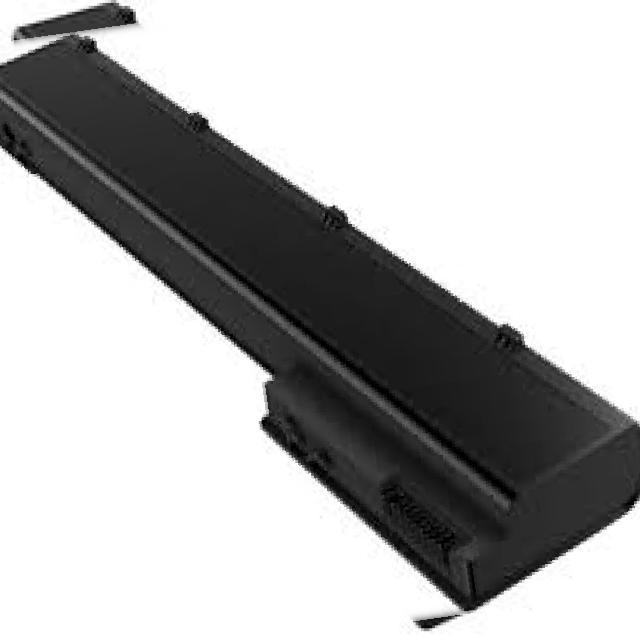Battery: (0, 29, 640, 611)
